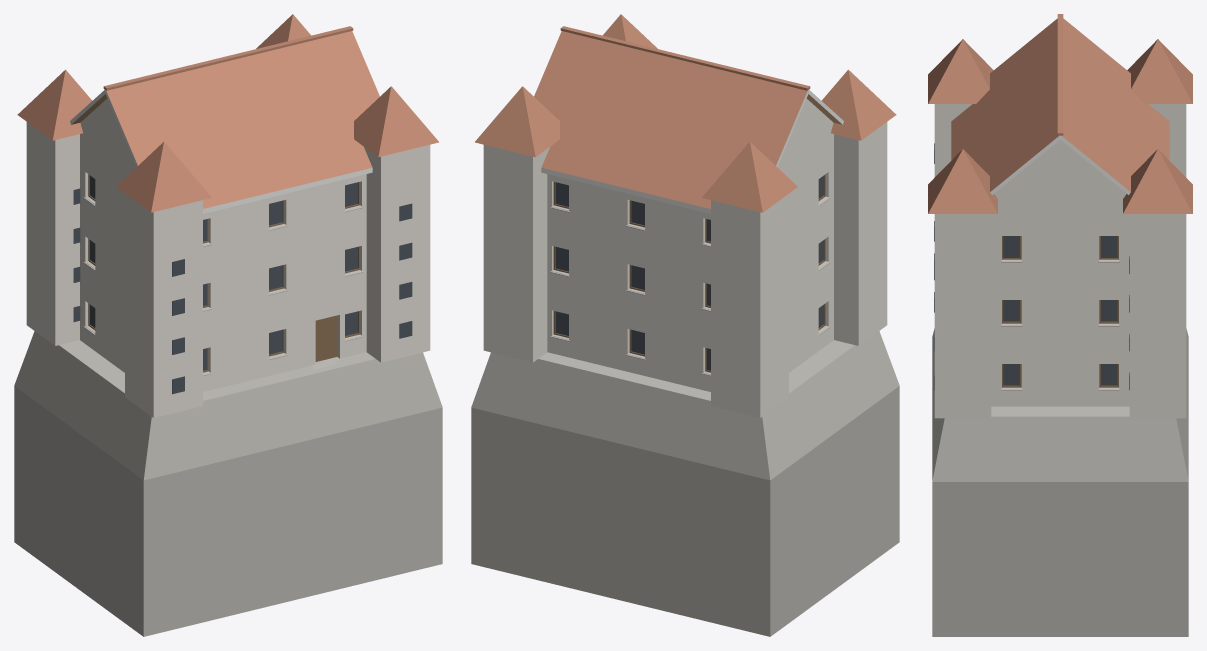
File: nordic_castle_3_s.glb
3 views of the same model, side by side, from view 1: azimuth 30°, elevation 25°; view 2: azimuth 150°, elevation 25°; view 3: azimuth 270°, elevation 25° (orthographic).
Parts seen in each view (by area): view 1: nordic_castle_3_s; view 2: nordic_castle_3_s; view 3: nordic_castle_3_s.
Boxes of the visible parts, x1,y1,x2,y2 form: nordic_castle_3_s: [14, 14, 442, 636]; nordic_castle_3_s: [471, 14, 899, 636]; nordic_castle_3_s: [928, 14, 1192, 636].
Size of the model in its own units: 16 by 25.35 by 12.39.
